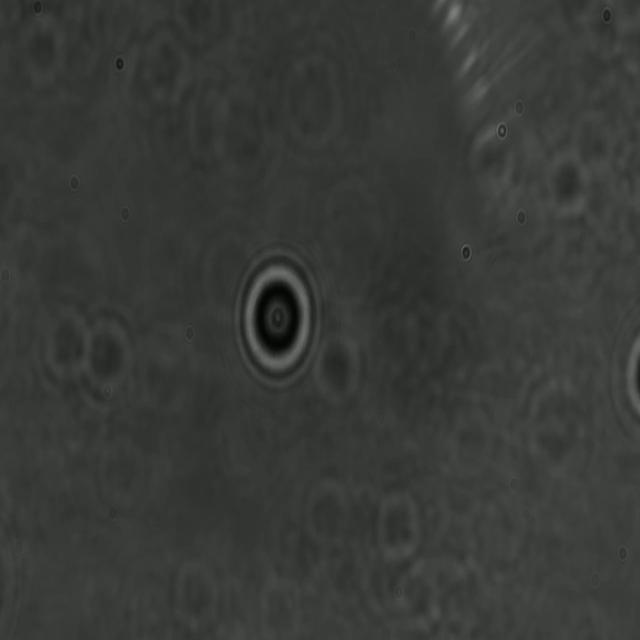LCELL: (229, 244, 323, 392)
